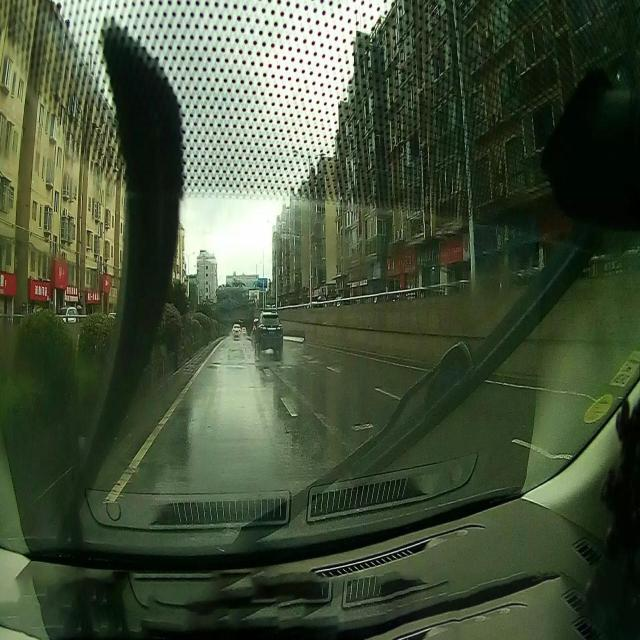car: (252, 310, 282, 360), (234, 326, 240, 339)
